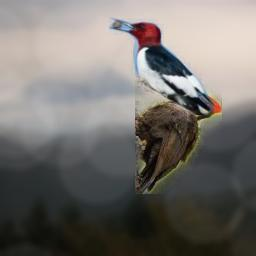Woodpecker: (109, 17, 216, 115), (135, 79, 222, 194)
